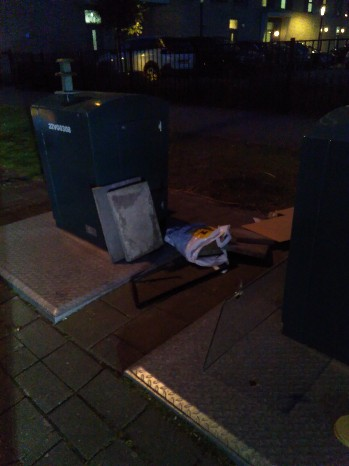Container: (40, 86, 166, 179), (302, 133, 346, 352)
Papier: (253, 208, 288, 257)
Rest: (97, 193, 163, 260), (182, 226, 232, 273)
